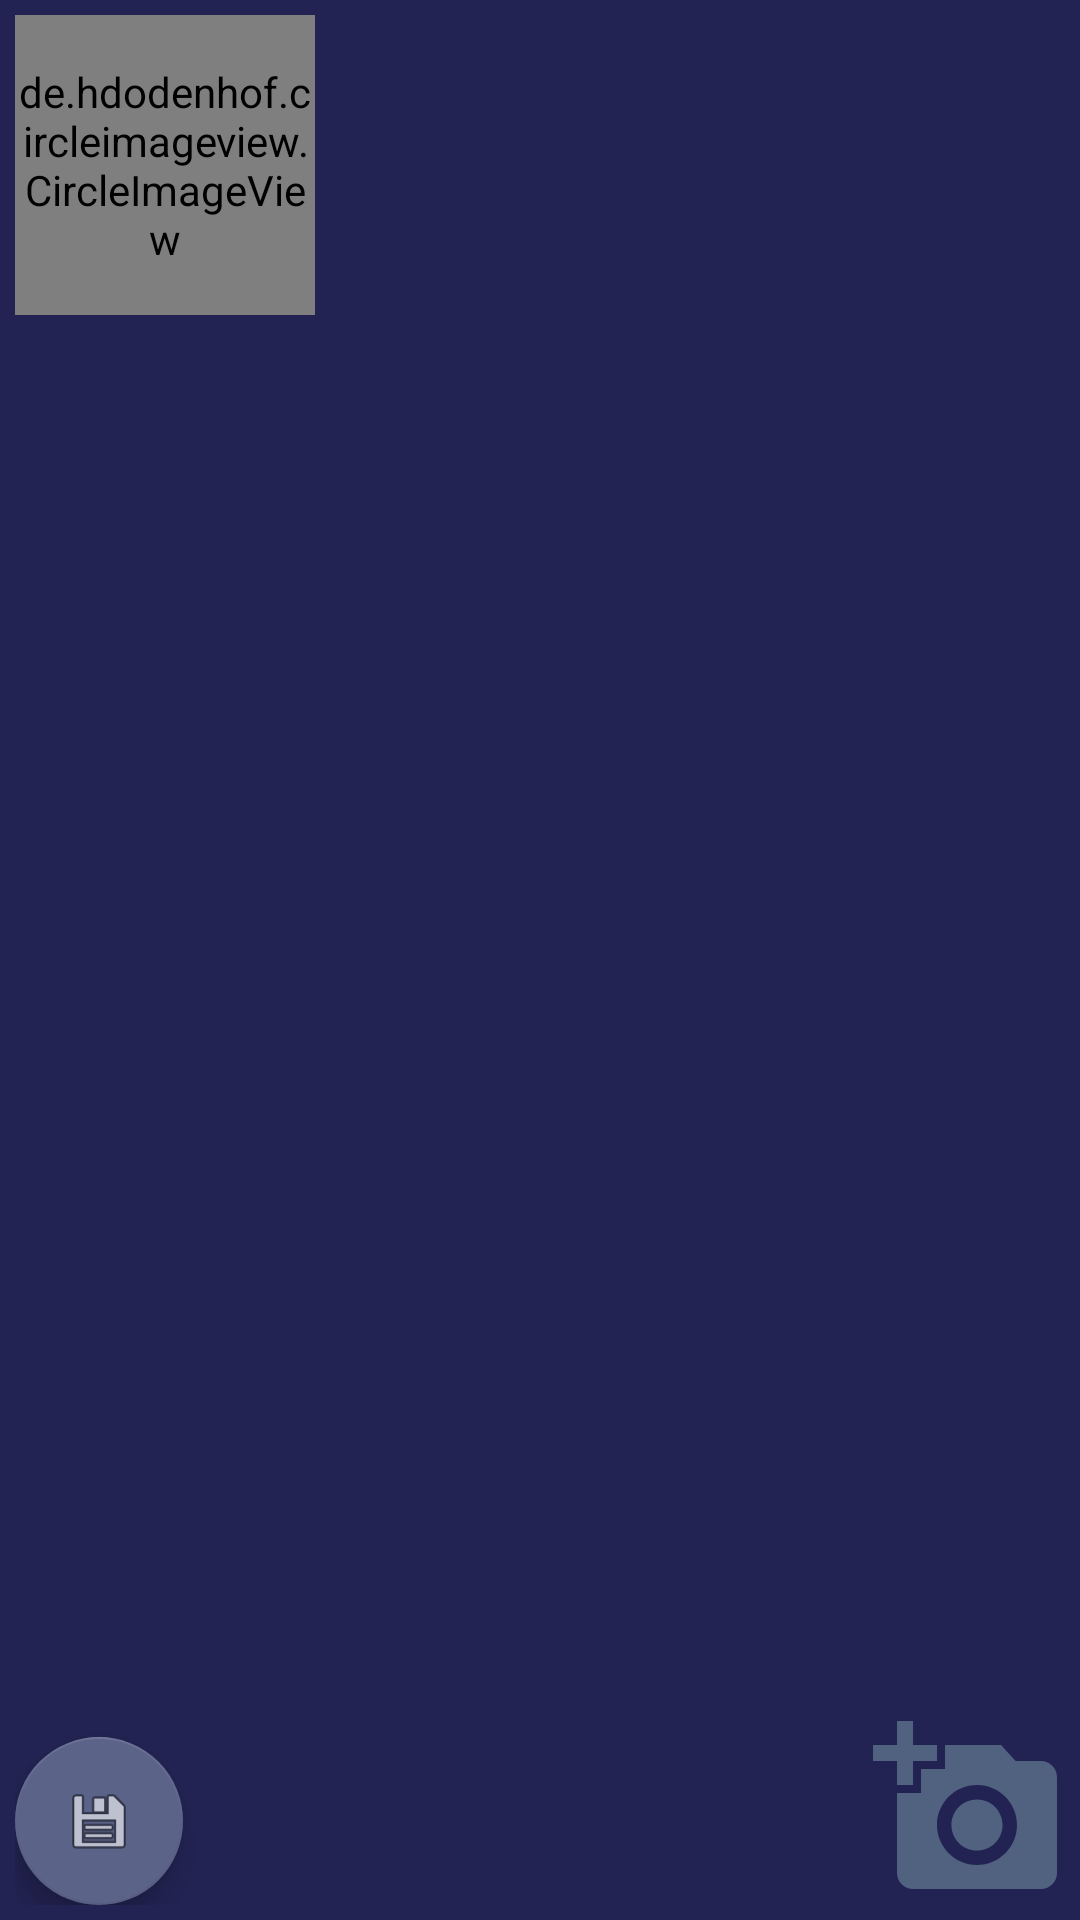

Locate icon controls on the screen. Image size 1080x1920, boxes as (x1, y1, x2, y2).
add photo: (873, 1721, 1057, 1889)
save: (15, 1737, 183, 1905)
